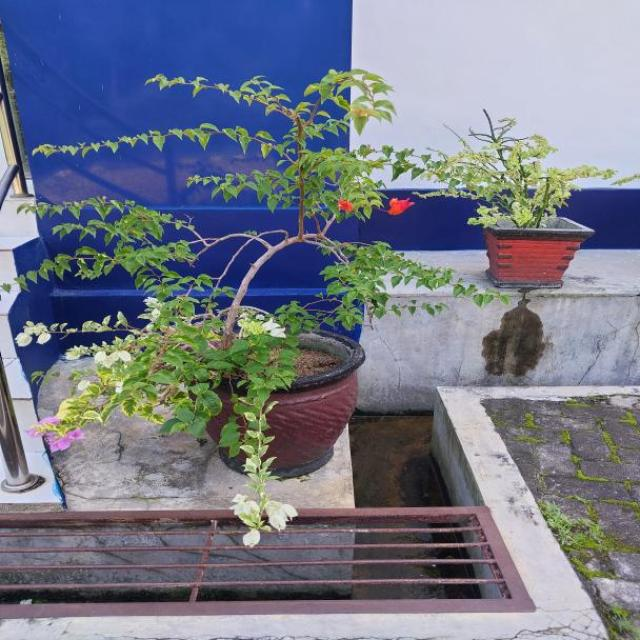plant ahead at: (25, 51, 426, 508), (432, 100, 614, 294)
